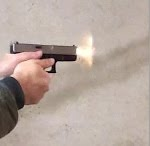Asalto: (16, 44, 76, 55)
